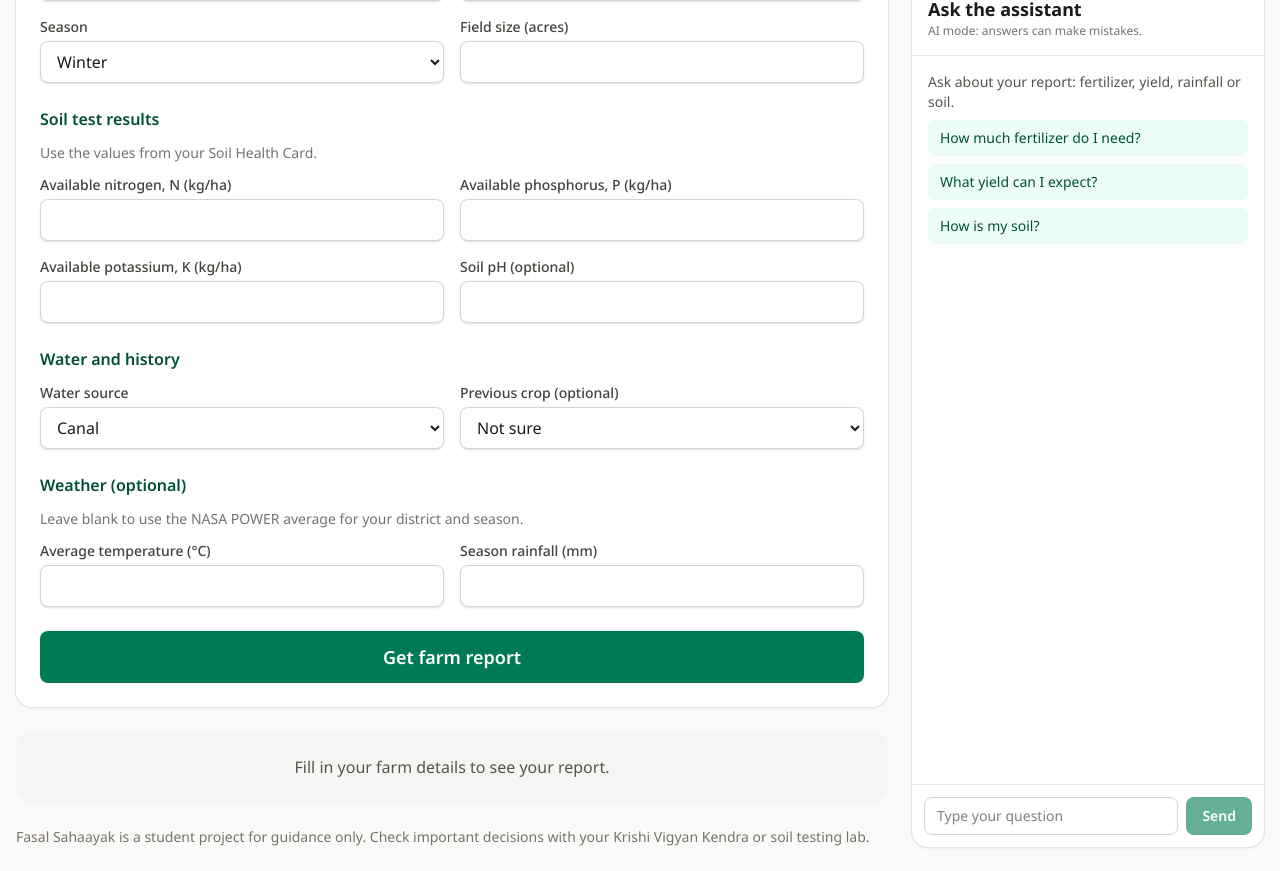
it: chat › shows the mode that actually answered
The image size is (1280, 871).
(page scrolled)
expect the text "AI mode: answers can make mistakes." is shown: met, box [928, 22, 1142, 39]
Type "Hi" into the field labelled "Type your question" at (1051, 816), box [924, 797, 1178, 835]
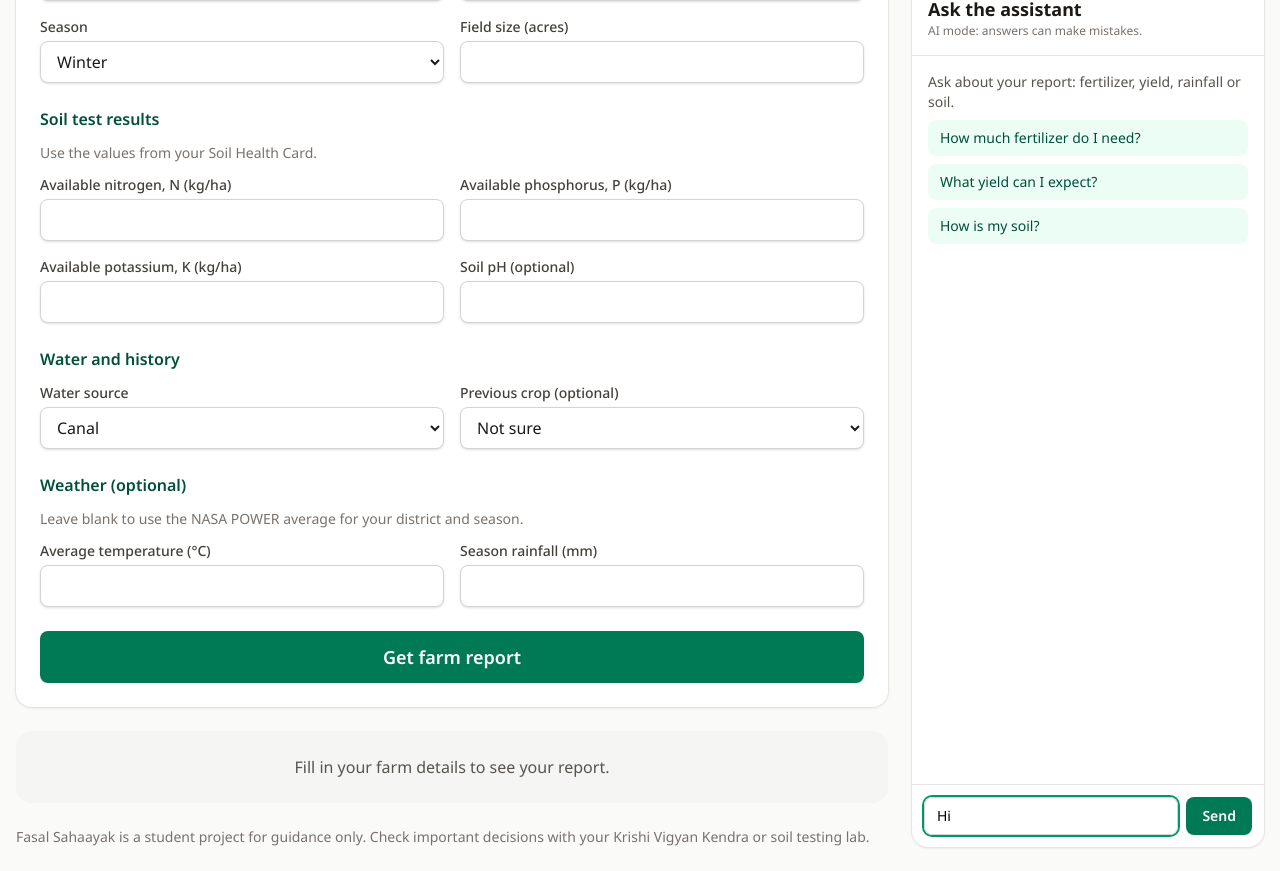
Click the button "Send" at (1219, 816), box [1186, 797, 1252, 835]
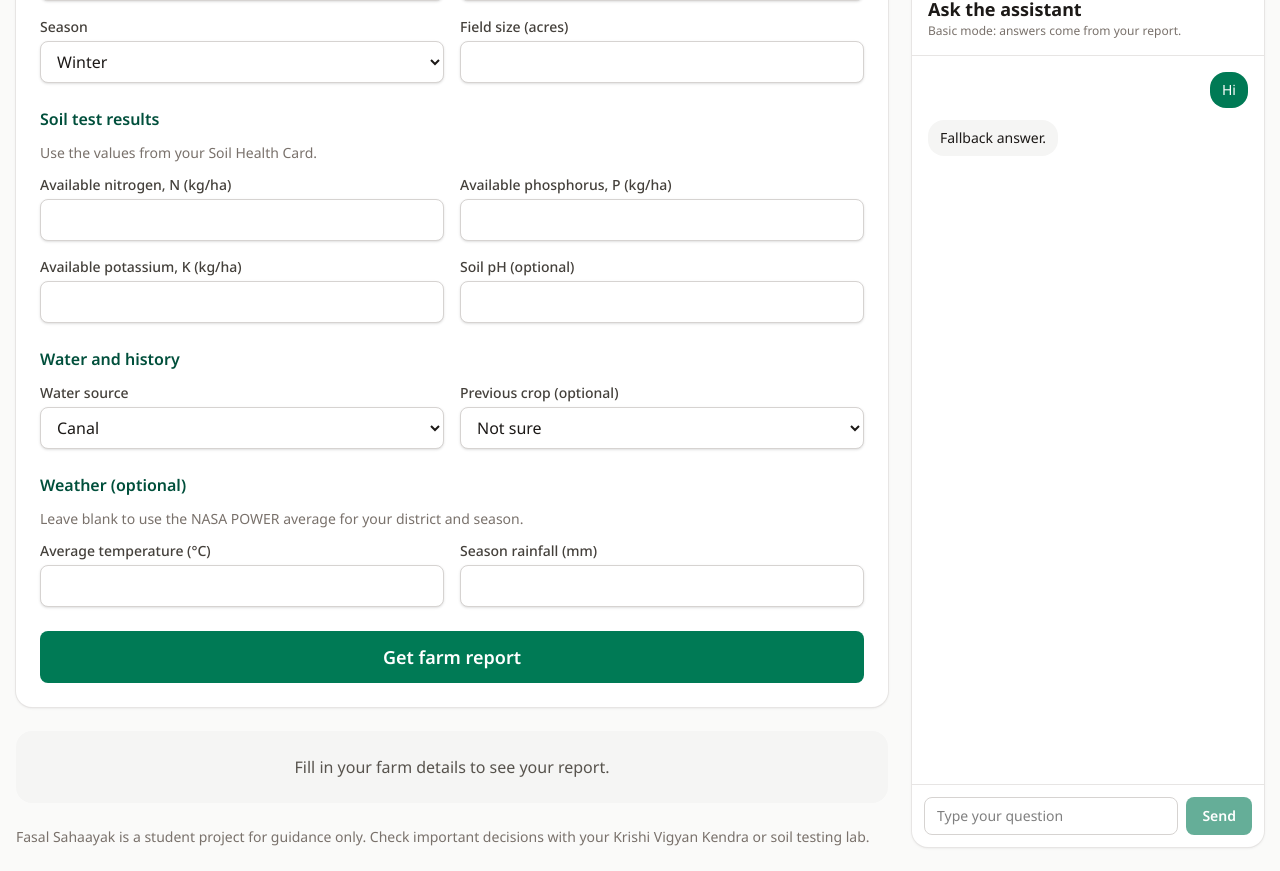
expect the text "Basic mode: answers come from your report." is shown: met, box [928, 22, 1181, 39]
